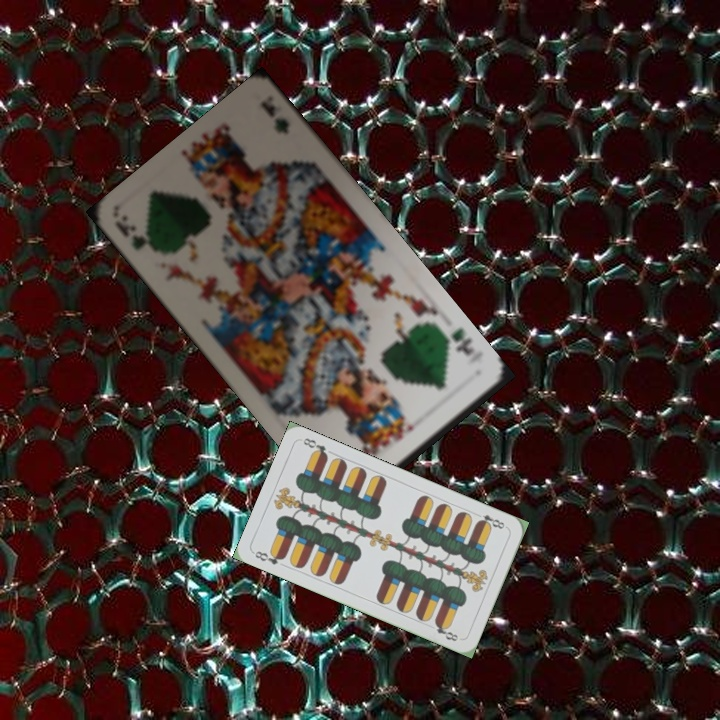E8: (471, 509, 510, 531), (251, 547, 288, 567)
GK: (111, 218, 164, 258), (438, 323, 477, 359)
